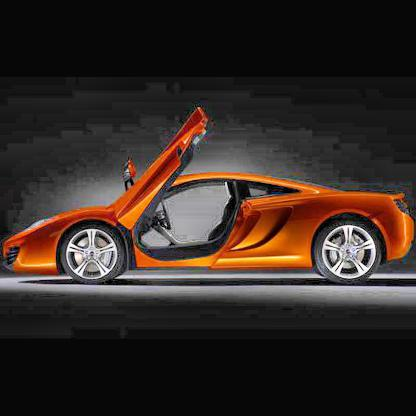McLaren MP4-12C Coupe 2012: (4, 103, 416, 287)
